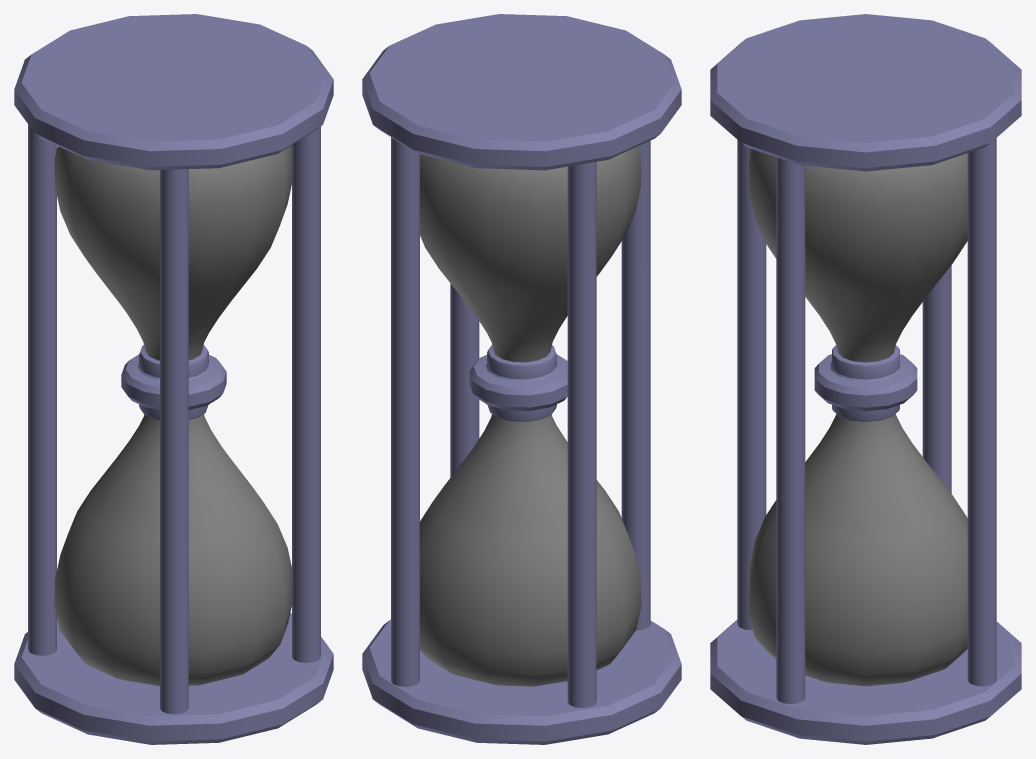
Rendered from Hourglass.fbx.
The picture shows the model from 3 angles, left to right: view 1: azimuth 30°, elevation 25°; view 2: azimuth 150°, elevation 25°; view 3: azimuth 270°, elevation 25°; orthographic projection.
Parts seen in each view (by area): view 1: Cylinder032, Cylinder030; view 2: Cylinder032, Cylinder030; view 3: Cylinder032, Cylinder030.
Part boxes in pixels (x1,y1,x2,y2): Cylinder032: (14, 14, 333, 744); Cylinder030: (54, 145, 291, 686); Cylinder032: (362, 14, 681, 744); Cylinder030: (420, 146, 641, 686); Cylinder032: (710, 14, 1021, 744); Cylinder030: (749, 148, 967, 686).
Bounding box in the file's own units: 11 × 22.86 × 10.72.
